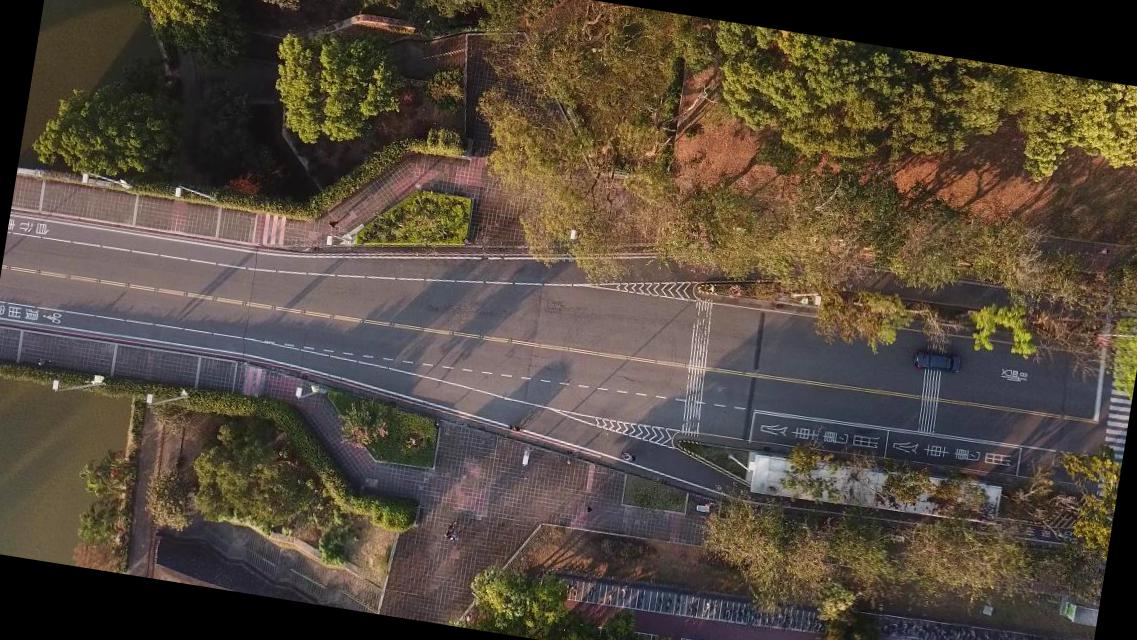vehicle: (912, 348, 962, 374)
